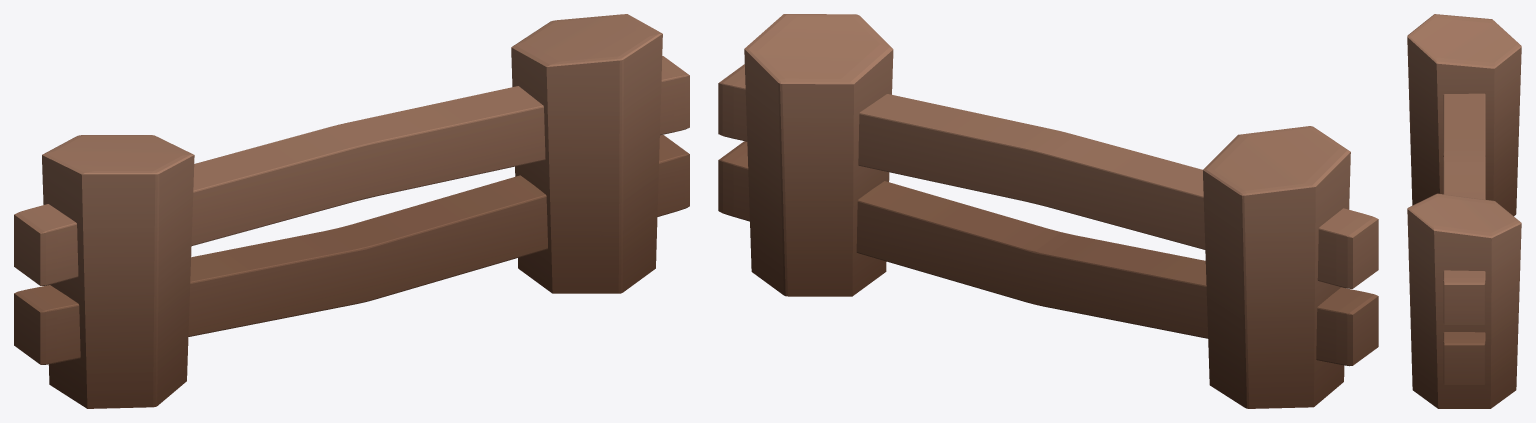
Rendered from Pager.fbx.
The picture shows the model from 3 angles, left to right: view 1: azimuth 30°, elevation 25°; view 2: azimuth 150°, elevation 25°; view 3: azimuth 270°, elevation 25°; orthographic projection. The views are drawn at different scales.
Visible parts, largest first — view 1: Cube.056; view 2: Cube.056; view 3: Cube.056.
Part boxes in pixels (bbox=[...]): Cube.056: bbox=[14, 14, 689, 408]; Cube.056: bbox=[718, 14, 1378, 408]; Cube.056: bbox=[1407, 14, 1521, 408].
Size of the model in its own units: 428 by 150 by 85.78.
